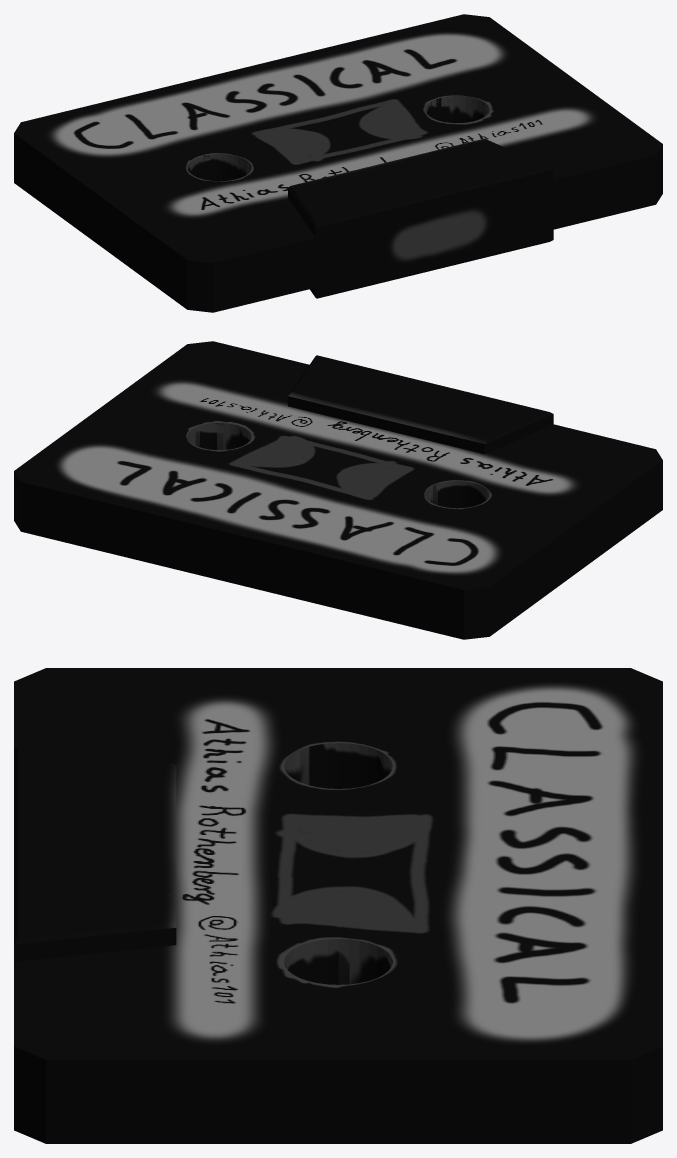
File: tape.gltf
3 views of the same model, one above another, from view 1: azimuth 30°, elevation 25°; view 2: azimuth 150°, elevation 25°; view 3: azimuth 270°, elevation 25° (orthographic). The views are drawn at different scales.
Visible parts, largest first — view 1: Cube; view 2: Cube; view 3: Cube.
Part boxes in pixels (x1=…): Cube: x1=14, y1=14, x2=662, y2=312; Cube: x1=14, y1=341, x2=662, y2=639; Cube: x1=14, y1=668, x2=662, y2=1143.
Bounding box in the file's own units: 1 × 0.15 × 0.7.
Materials: 1 (1 with a texture image).
